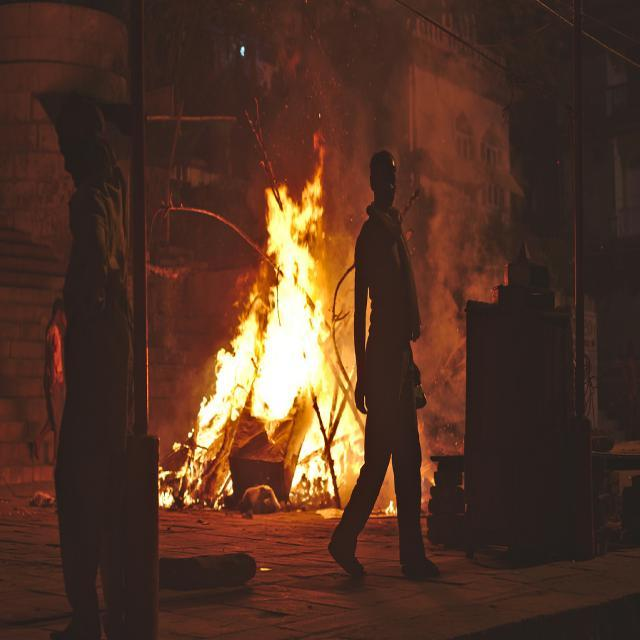Fire: (178, 161, 362, 518)
